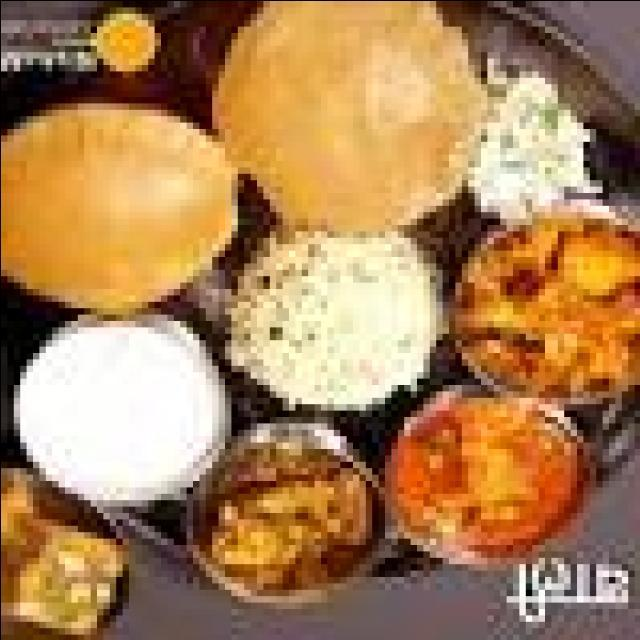papad: (5, 88, 231, 321), (228, 213, 446, 423)
rice: (16, 324, 230, 502)
veg-fry: (383, 364, 595, 575)
